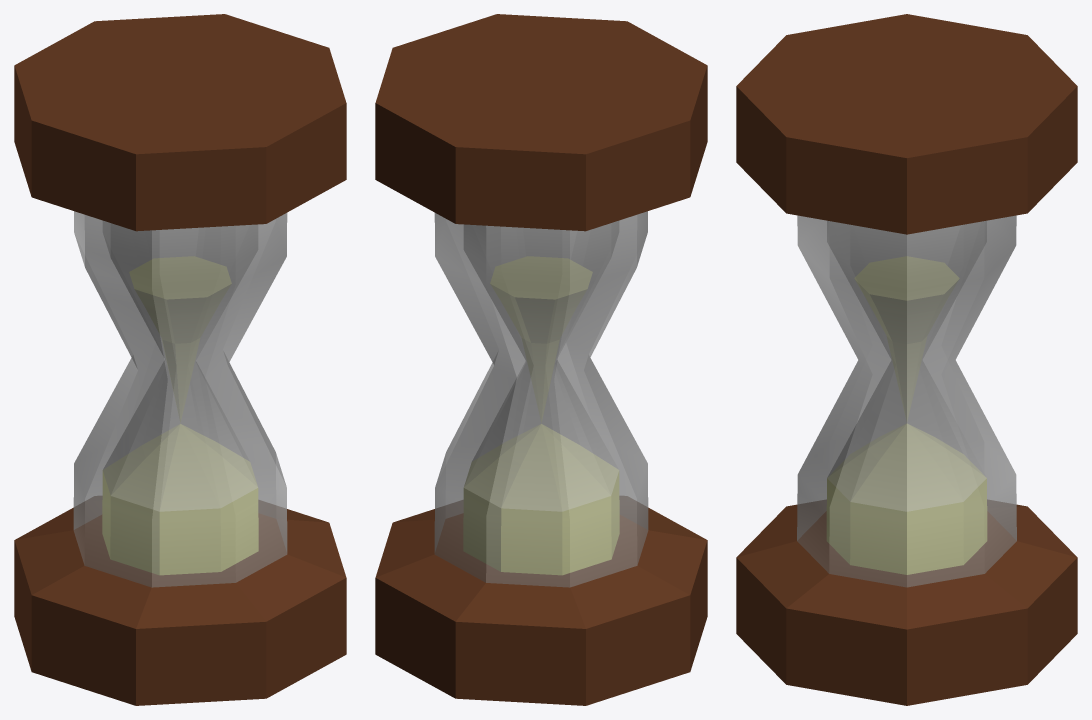
The model's file is Hourglass.glb.
3 renders of one model, left to right at view 1: azimuth 30°, elevation 25°; view 2: azimuth 150°, elevation 25°; view 3: azimuth 270°, elevation 25°, orthographic.
Parts seen in each view (by area): view 1: Base.001, OuterGlass, InnerGlass, Sand; view 2: Base.001, OuterGlass, InnerGlass, Sand; view 3: Base.001, OuterGlass, InnerGlass, Sand.
Boxes of the visible parts, bbox=[...] form: Base.001: bbox=[14, 14, 346, 705]; OuterGlass: bbox=[73, 211, 287, 587]; InnerGlass: bbox=[103, 221, 257, 511]; Sand: bbox=[102, 256, 258, 574]; Base.001: bbox=[375, 14, 707, 705]; OuterGlass: bbox=[434, 211, 648, 587]; InnerGlass: bbox=[464, 221, 618, 511]; Sand: bbox=[463, 256, 619, 574]; Base.001: bbox=[736, 14, 1077, 705]; OuterGlass: bbox=[797, 215, 1016, 587]; InnerGlass: bbox=[827, 221, 986, 511]; Sand: bbox=[827, 256, 986, 574].
Size of the model in its own units: 5.64 by 9.99 by 5.64.
